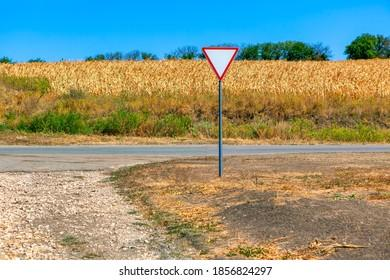Give Way: (199, 43, 239, 82)
